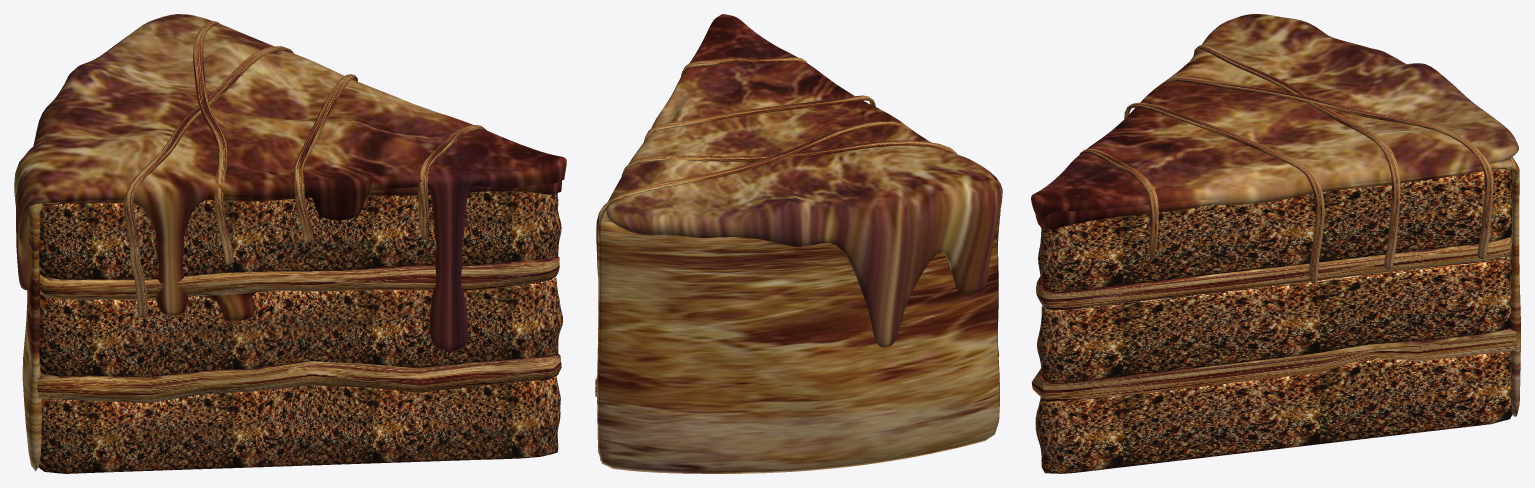
File: Chocolate Cake.obj
3 views of the same model, side by side, from view 1: azimuth 30°, elevation 25°; view 2: azimuth 150°, elevation 25°; view 3: azimuth 270°, elevation 25° (orthographic). The views are drawn at different scales.
Visible parts, largest first — view 1: Object001, Cylinder001, Cylinder003, Cylinder005, Cylinder002, Cylinder004, Cylinder006, Plane003, Plane004, Plane002, Plane001; view 2: Cylinder006, Object001, Plane004, Plane003, Plane002, Plane001; view 3: Object001, Cylinder003, Cylinder001, Cylinder005, Cylinder002, Cylinder004, Cylinder006, Plane004, Plane003, Plane002, Plane001.
Boxes of the visible parts, x1,y1,x2,y2 form: Object001: (14,14,566,350); Cylinder001: (38,376,560,473); Cylinder003: (39,276,562,377); Cylinder005: (39,191,561,279); Cylinder002: (37,353,561,403); Cylinder004: (39,256,559,321); Cylinder006: (22,180,561,471); Plane003: (123,46,293,317); Plane004: (193,21,233,265); Plane002: (293,74,357,243); Plane001: (418,125,485,239); Cylinder006: (597,199,1000,473); Object001: (606,14,1002,347); Plane004: (596,121,906,277); Plane003: (621,140,957,175); Plane002: (644,95,875,141); Plane001: (681,57,806,76); Object001: (1031,14,1518,217); Cylinder003: (1037,256,1511,382); Cylinder001: (1035,351,1512,473); Cylinder005: (1038,167,1512,291); Cylinder002: (1031,328,1517,401); Cylinder004: (1036,237,1511,310); Cylinder006: (1035,157,1520,416); Plane004: (1167,76,1493,258); Plane003: (1193,45,1400,269); Plane002: (1124,102,1324,283); Plane001: (1079,149,1158,257).
Size of the model in its own units: 8.99 by 6.02 by 9.41.
Materials: 4 (4 with a texture image).
